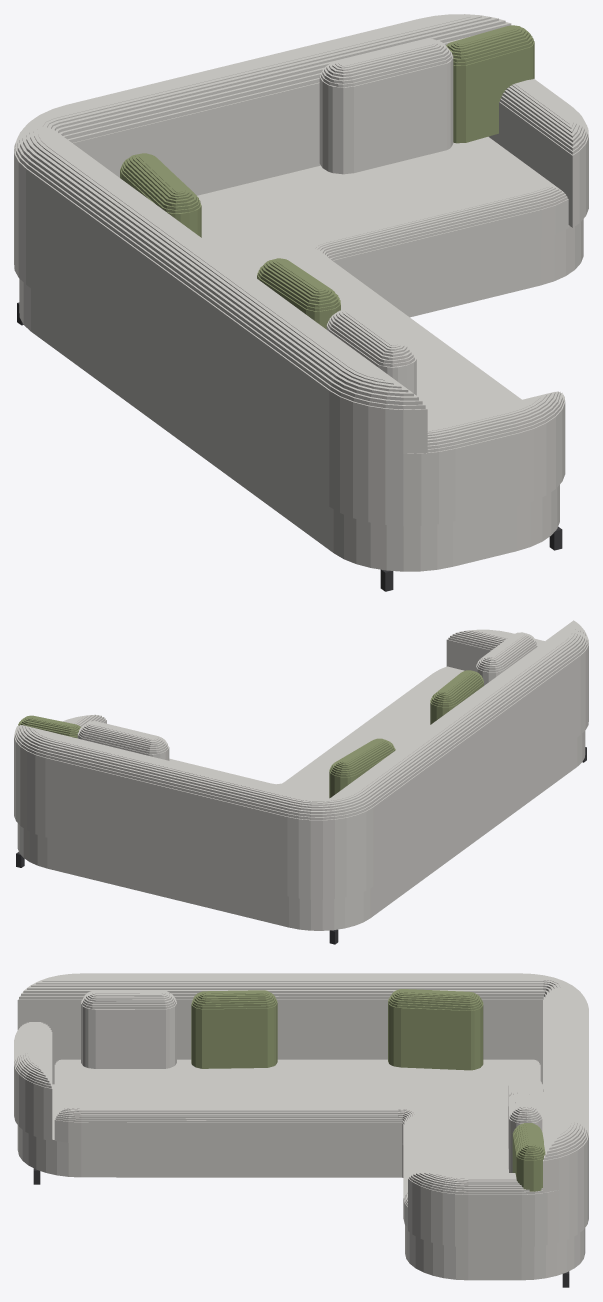
File: SM_Sofa_Sectional.fbx
The picture shows the model from 3 angles, top to bottom: view 1: azimuth 30°, elevation 25°; view 2: azimuth 150°, elevation 25°; view 3: azimuth 270°, elevation 25°; orthographic projection. The views are drawn at different scales.
Parts seen in each view (by area): view 1: SM_Sofa_Sectional; view 2: SM_Sofa_Sectional; view 3: SM_Sofa_Sectional.
Boxes of the visible parts, x1=… form: SM_Sofa_Sectional: x1=14, y1=14, x2=588, y2=591; SM_Sofa_Sectional: x1=14, y1=620, x2=588, y2=944; SM_Sofa_Sectional: x1=14, y1=973, x2=588, y2=1287.
Bounding box in the file's own units: 225 × 87 × 300.
